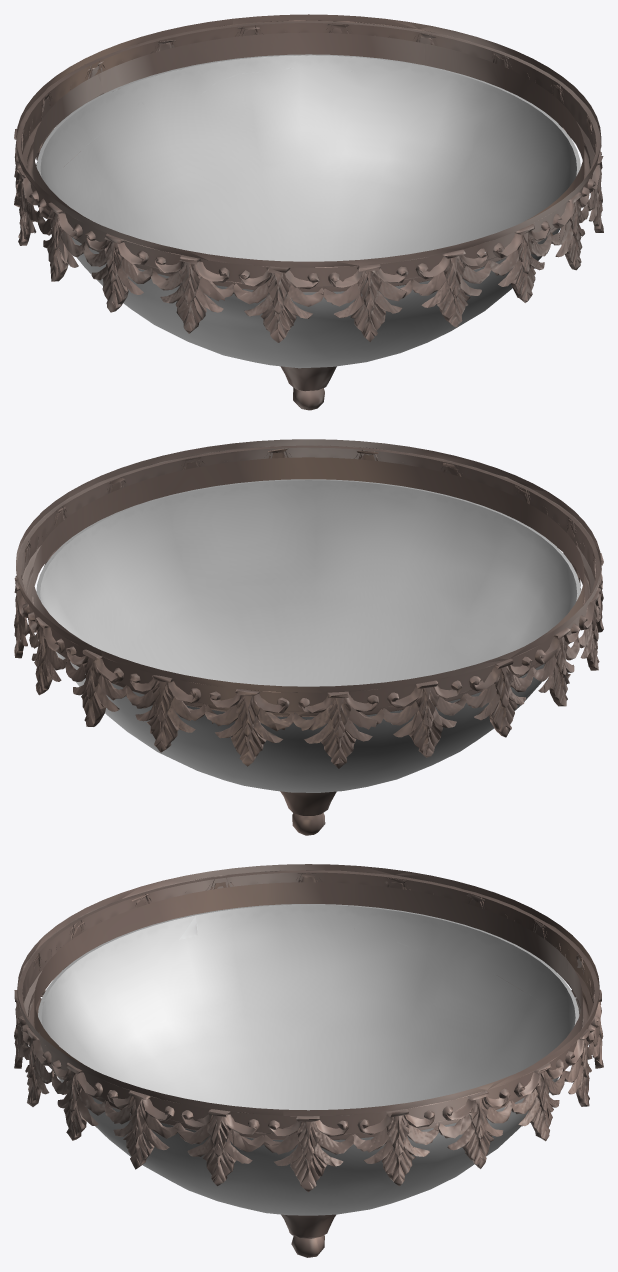
File: raw_model.obj
3 views of the same model, one above another, from view 1: azimuth 30°, elevation 25°; view 2: azimuth 150°, elevation 25°; view 3: azimuth 270°, elevation 25° (orthographic).
Parts seen in each view (by area): view 1: glass_001, solid_002; view 2: glass_001, solid_002; view 3: glass_001, solid_002.
Boxes of the visible parts, left/top/right/bottom form: glass_001: left=36, top=54, right=580, bottom=368; solid_002: left=14, top=14, right=603, bottom=410; glass_001: left=36, top=479, right=580, bottom=792; solid_002: left=14, top=439, right=603, bottom=835; glass_001: left=38, top=904, right=579, bottom=1215; solid_002: left=14, top=864, right=603, bottom=1257.
Bounding box in the file's own units: 0.5447 × 0.2741 × 0.5437.
1 material, 1 textured.
